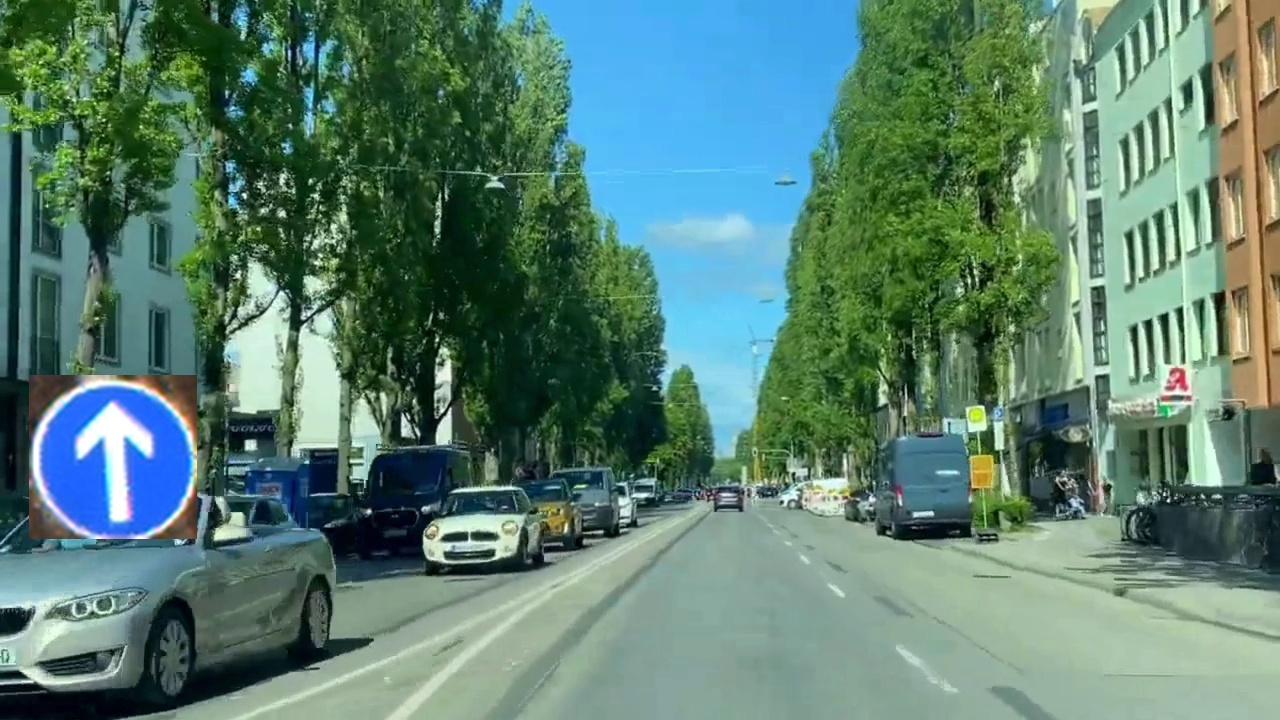Ahead only: (29, 375, 197, 539)
